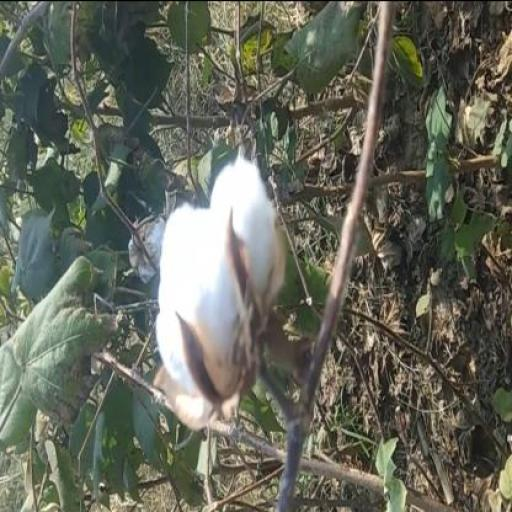cotton_ready: (143, 130, 320, 424)
